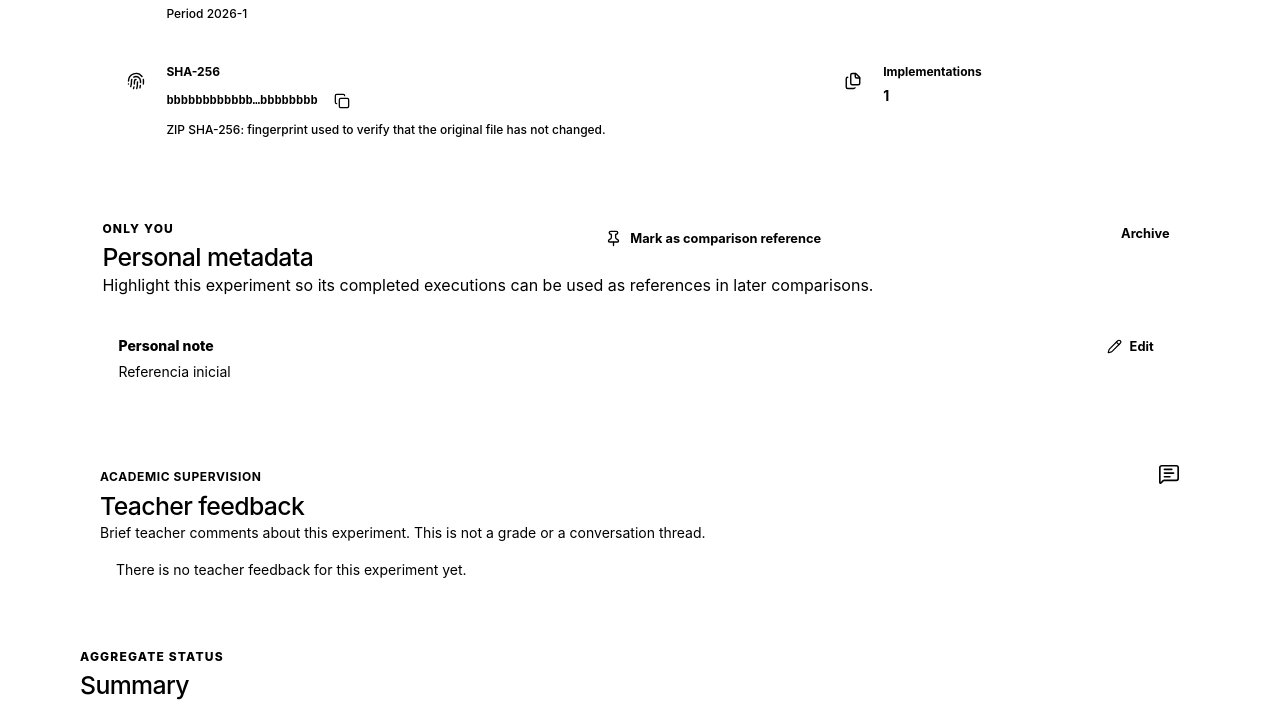
Test: SubmissionOverviewPage i18n › does not leak a Spanish backend metadata error while the UI is English
(page scrolled)
Click the button "Edit": (1130, 347) [1099,333,1162,360]
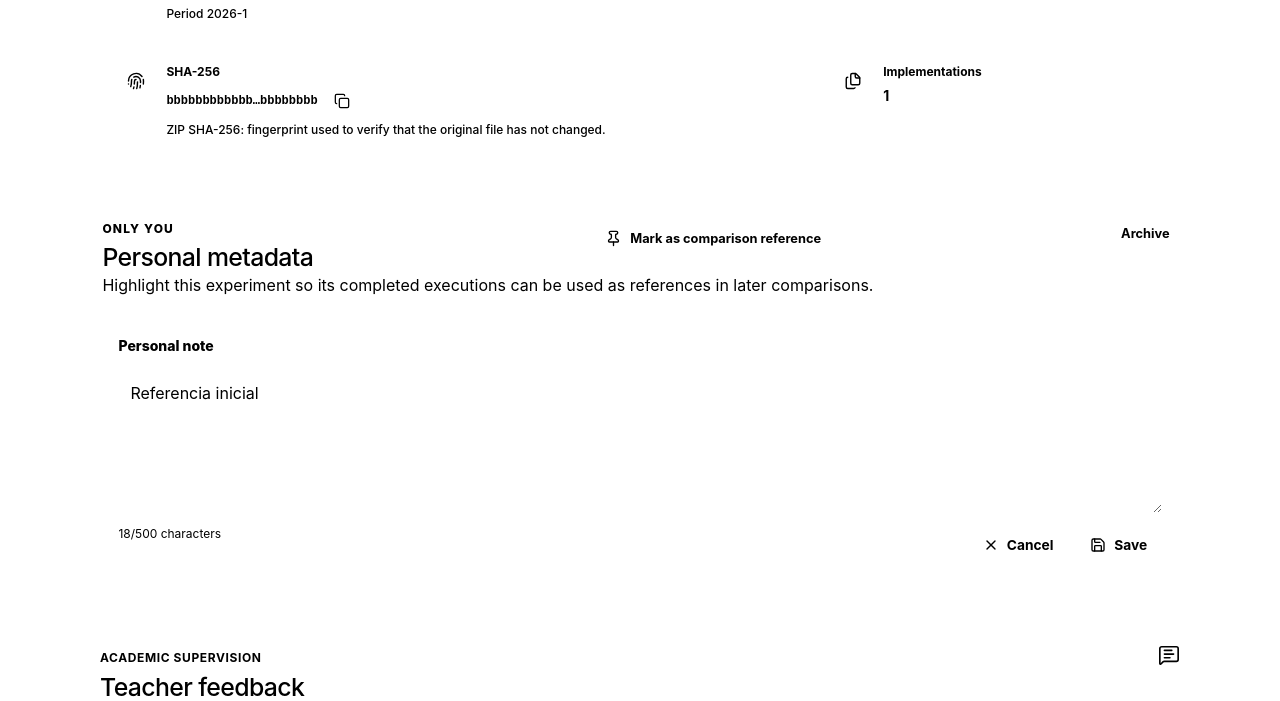
Result: the text box labelled "Personal note" holds "Referencia inicial" at [118,369,1162,513]
Click the button "Save": (1119, 545) [1076,525,1162,565]
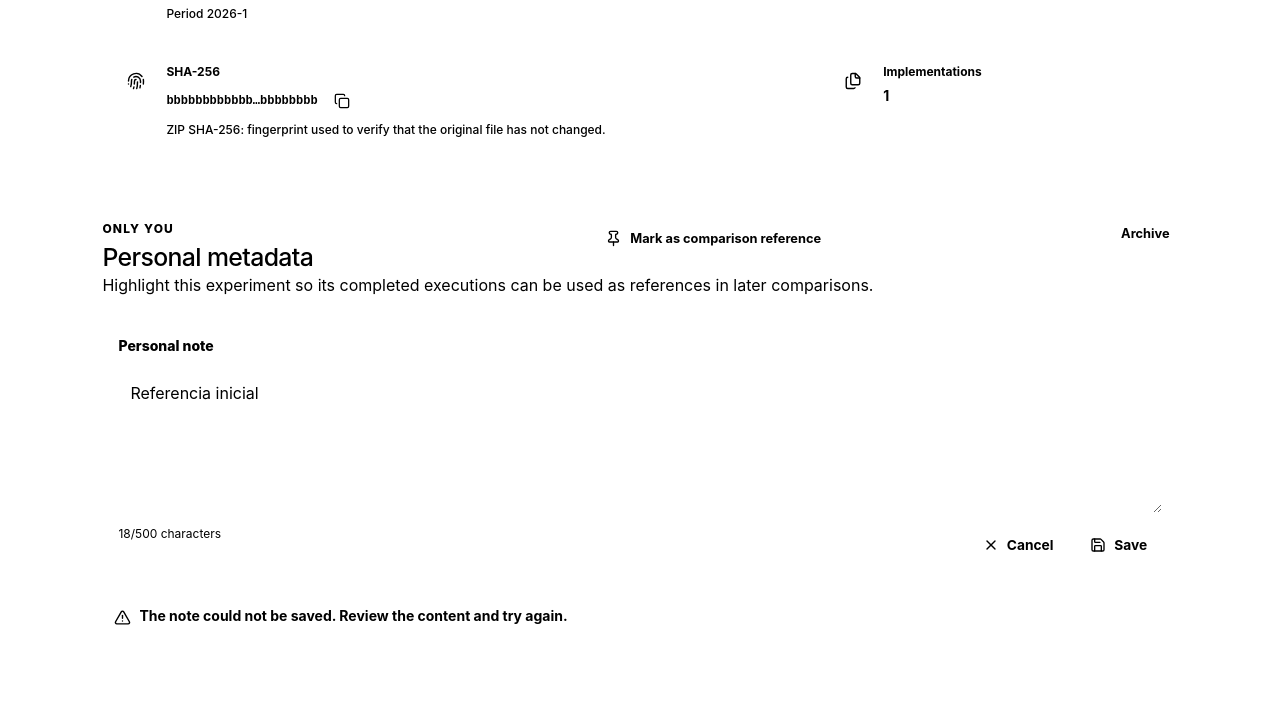
Result: the message reads "The note could not be saved. Review the content and try again." at [139,607,568,624]
